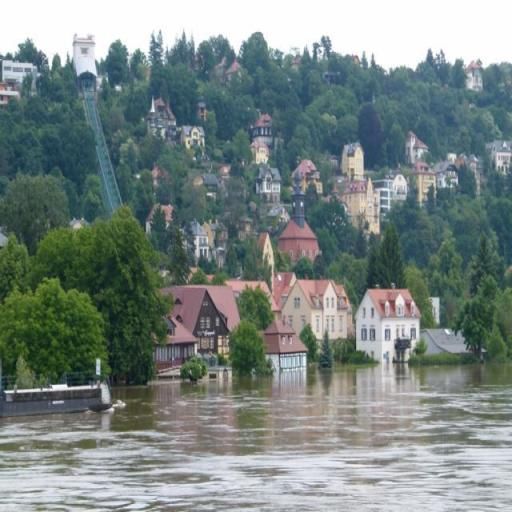flood: (0, 366, 512, 512)
house: (169, 284, 229, 344), (358, 287, 420, 345), (336, 144, 381, 210), (288, 278, 348, 326), (265, 314, 306, 367), (0, 61, 35, 105), (148, 97, 175, 134), (293, 160, 323, 191), (411, 159, 438, 190), (256, 166, 282, 196), (192, 220, 210, 256), (489, 140, 512, 168), (438, 162, 460, 187), (182, 124, 208, 145), (407, 132, 427, 157), (261, 231, 276, 262), (252, 140, 271, 162)
